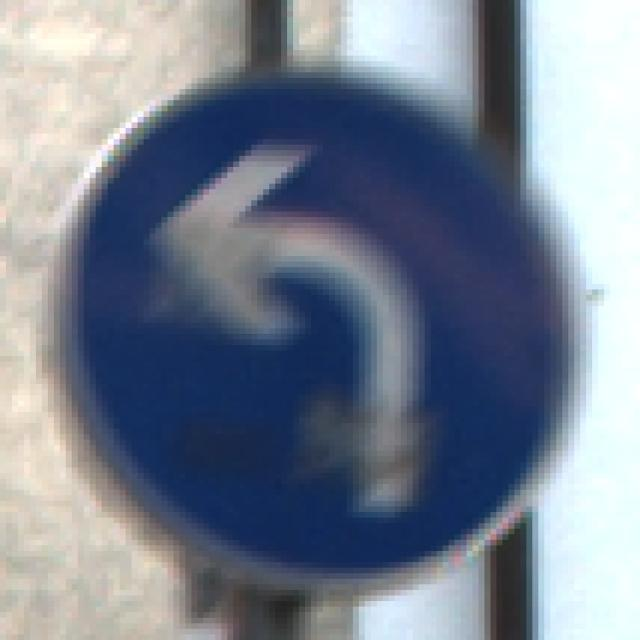compulsary turn left ahead: (47, 64, 590, 596)
